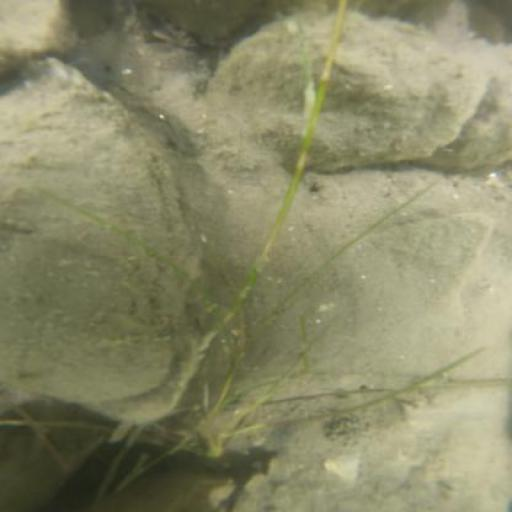Oyster-Closed: (314, 15, 475, 170), (193, 11, 340, 170), (252, 424, 511, 511), (433, 80, 507, 168)
Oyster-Open: (1, 84, 204, 427)
